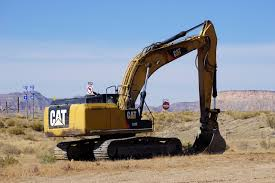excavator: (43, 18, 229, 171)
